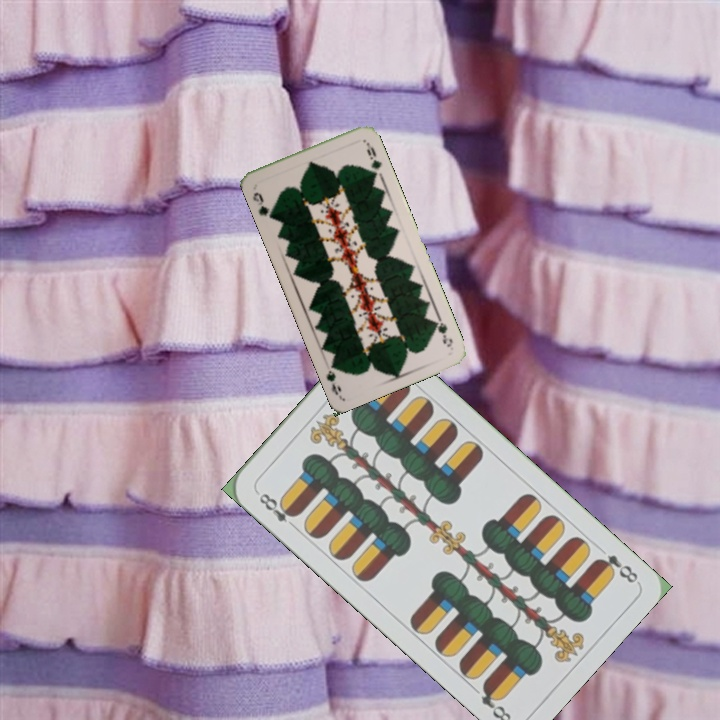E8: (252, 487, 300, 532), (592, 550, 641, 586)
G9: (430, 312, 455, 350), (248, 188, 275, 221)
